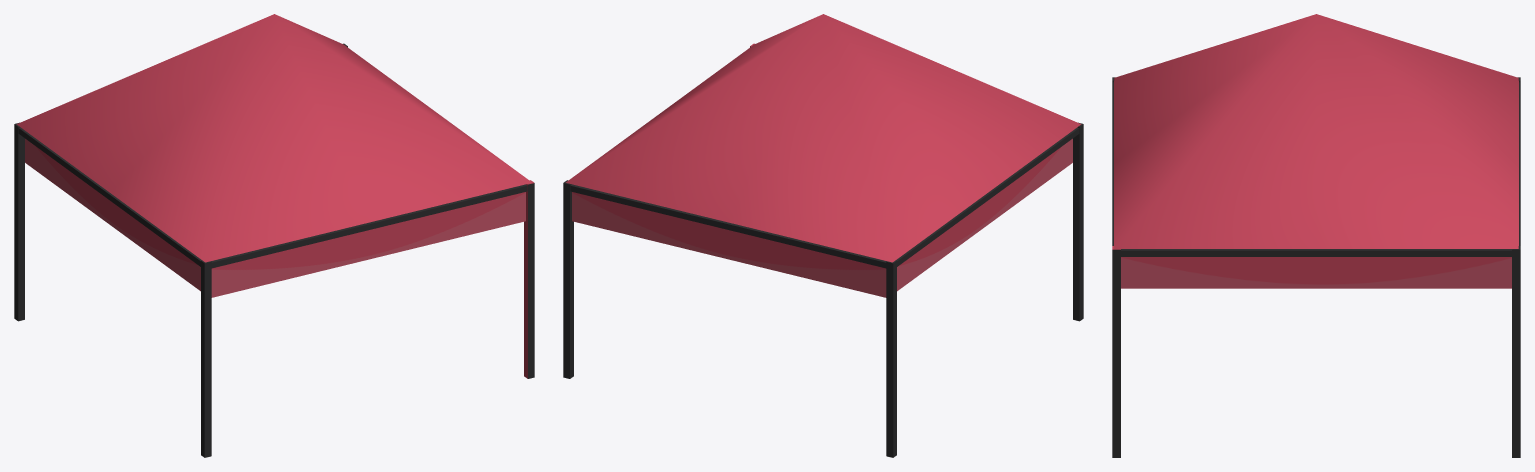
Rendered from Canopy 1.obj.
3 renders of one model, left to right at view 1: azimuth 30°, elevation 25°; view 2: azimuth 150°, elevation 25°; view 3: azimuth 270°, elevation 25°, orthographic. The views are drawn at different scales.
Visible parts, largest first — view 1: Canopy_1; view 2: Canopy_1; view 3: Canopy_1.
Boxes of the visible parts, x1=… form: Canopy_1: x1=14, y1=14, x2=534, y2=457; Canopy_1: x1=563, y1=14, x2=1083, y2=457; Canopy_1: x1=1112, y1=14, x2=1520, y2=457.
Bounding box in the file's own units: 817 × 790 × 817.
1 material, 1 textured.
